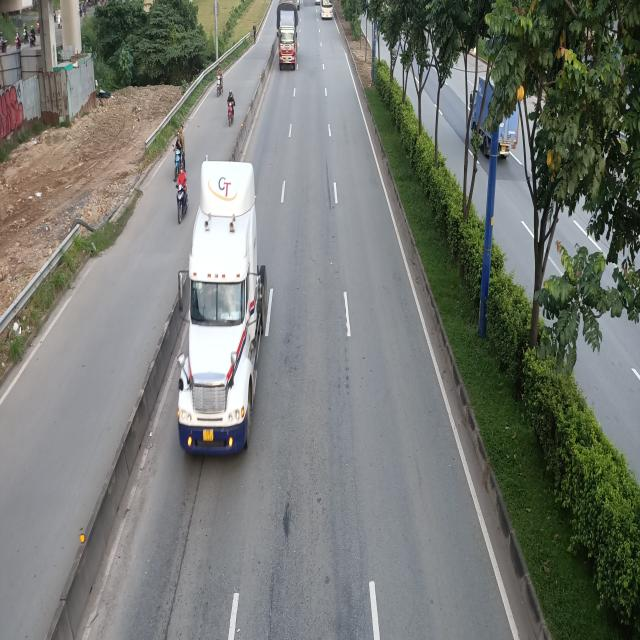container: (173, 162, 267, 460)
truck: (276, 0, 299, 71)
